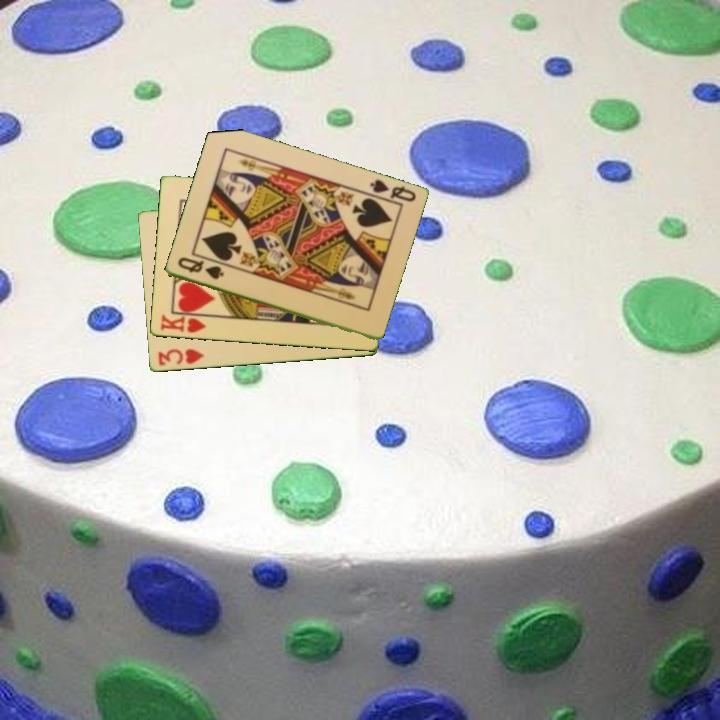3h: (154, 345, 207, 369)
Kh: (157, 311, 213, 336)
Qs: (363, 176, 419, 208), (174, 254, 226, 283)
